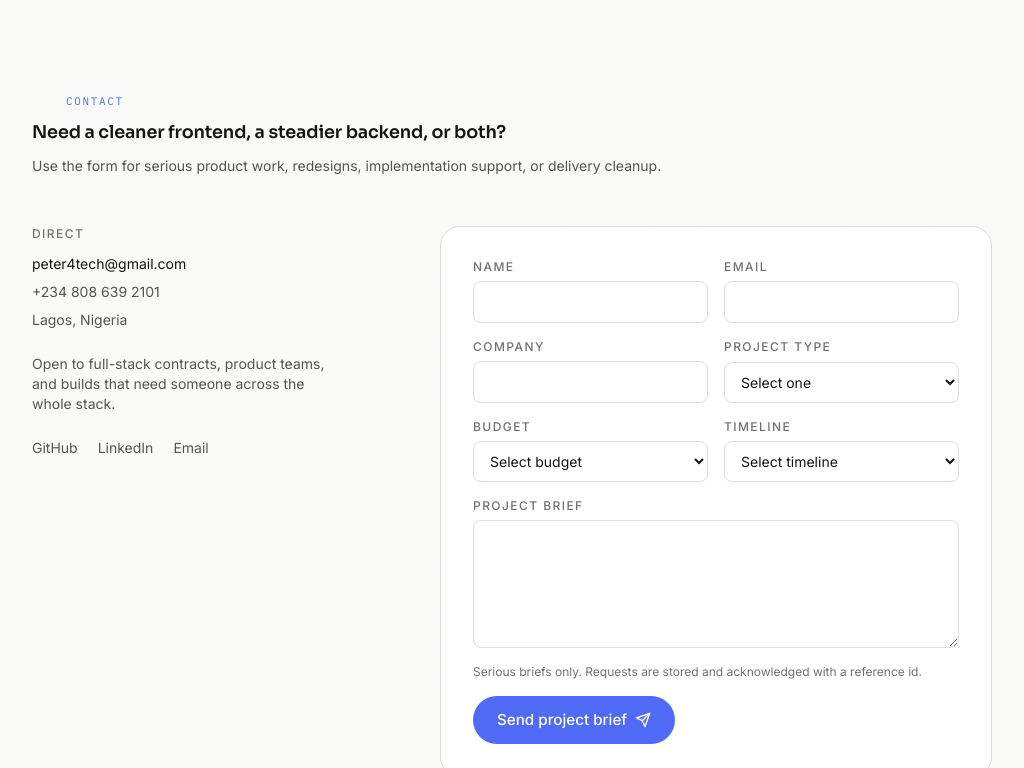
contact form › submits and shows the returned reference id
Type "Ada Lovelace" into the field labelled "Name" at x=590, y=302, box [473,281,708,323]
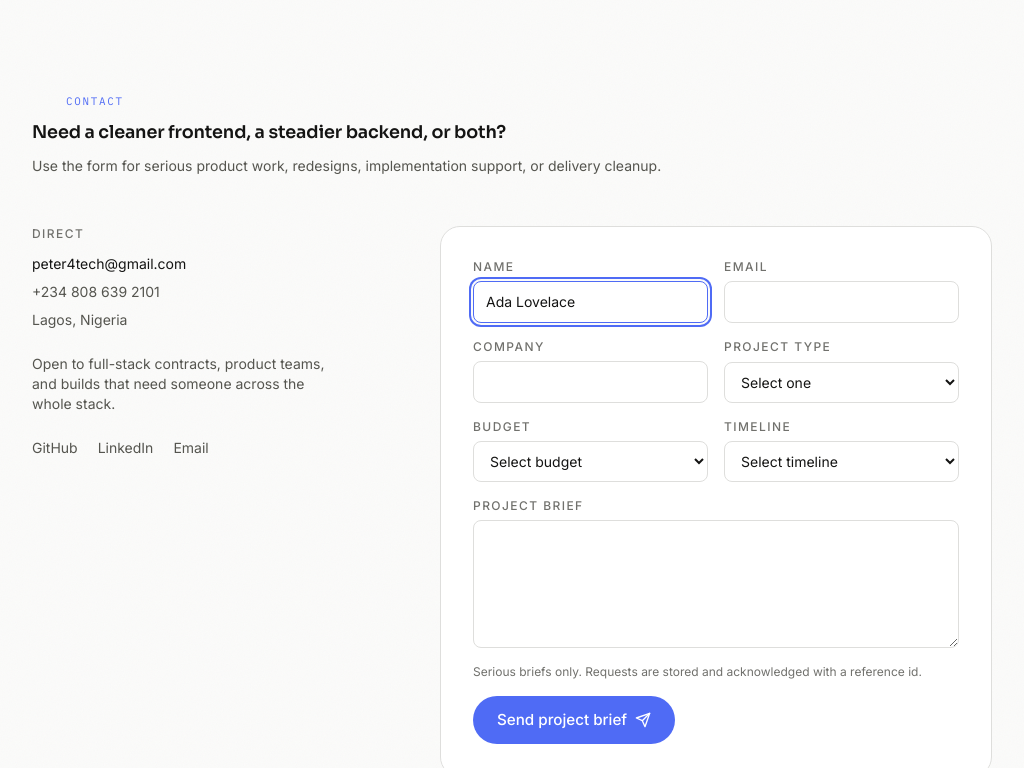
Type "ada@example.com" into the field labelled "Email" at x=842, y=302, box [724,281,959,323]
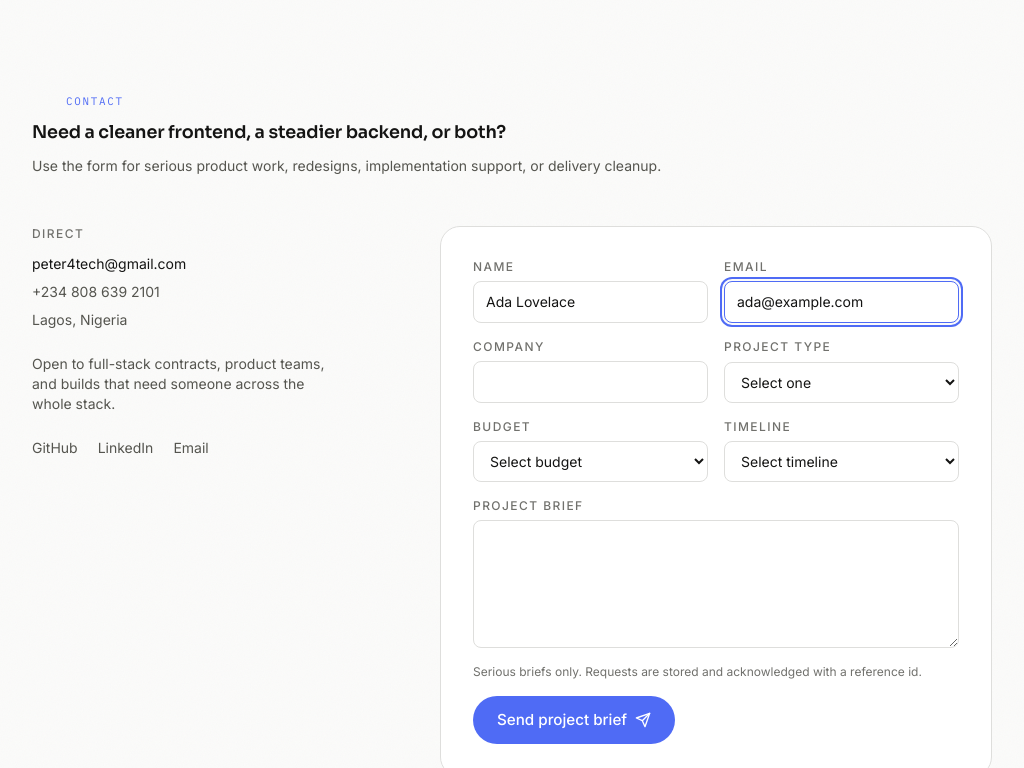
Select "Full-stack delivery" in the dropdown labelled "Project type" at x=842, y=382, box [724,362,959,403]
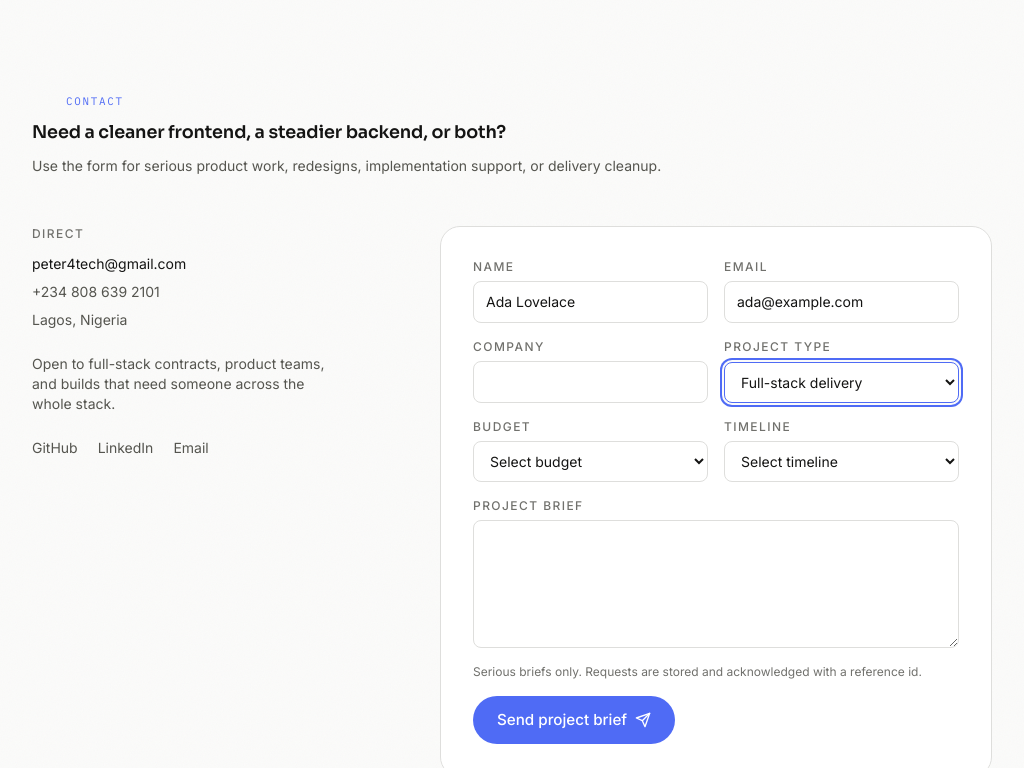
Type "We need a full rebuild of our product interface." into the text box labelled "Project brief" at x=716, y=584, box [473,520,959,648]
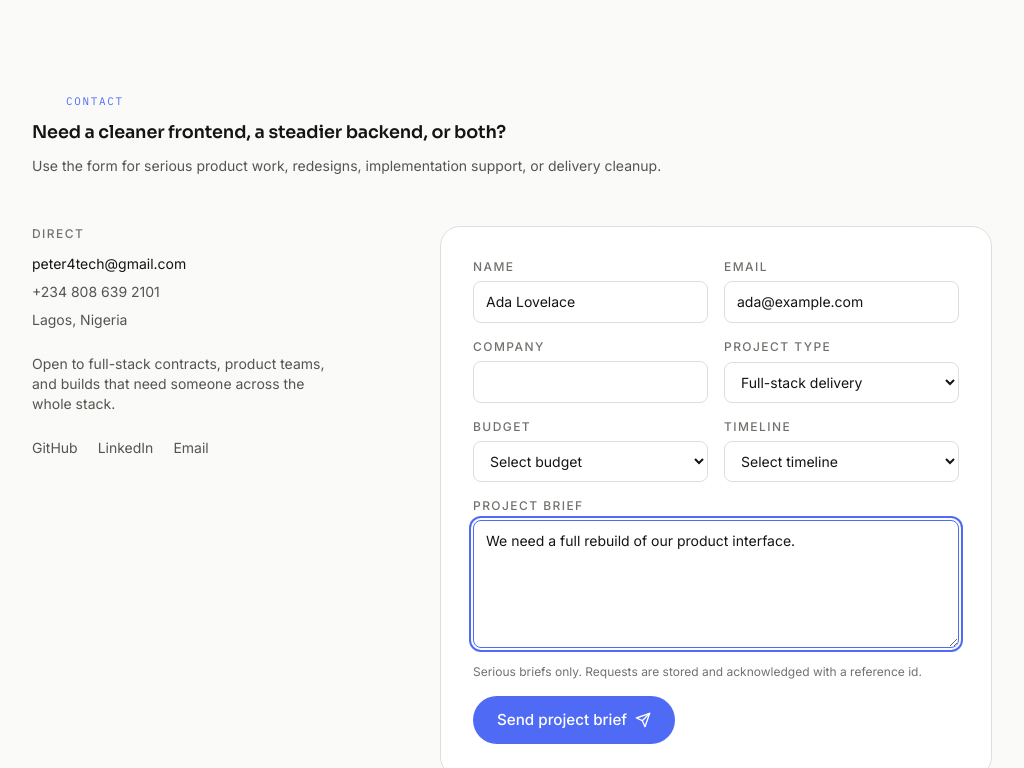
Click the button "Send project brief" at x=574, y=720, box [473,696,675,744]
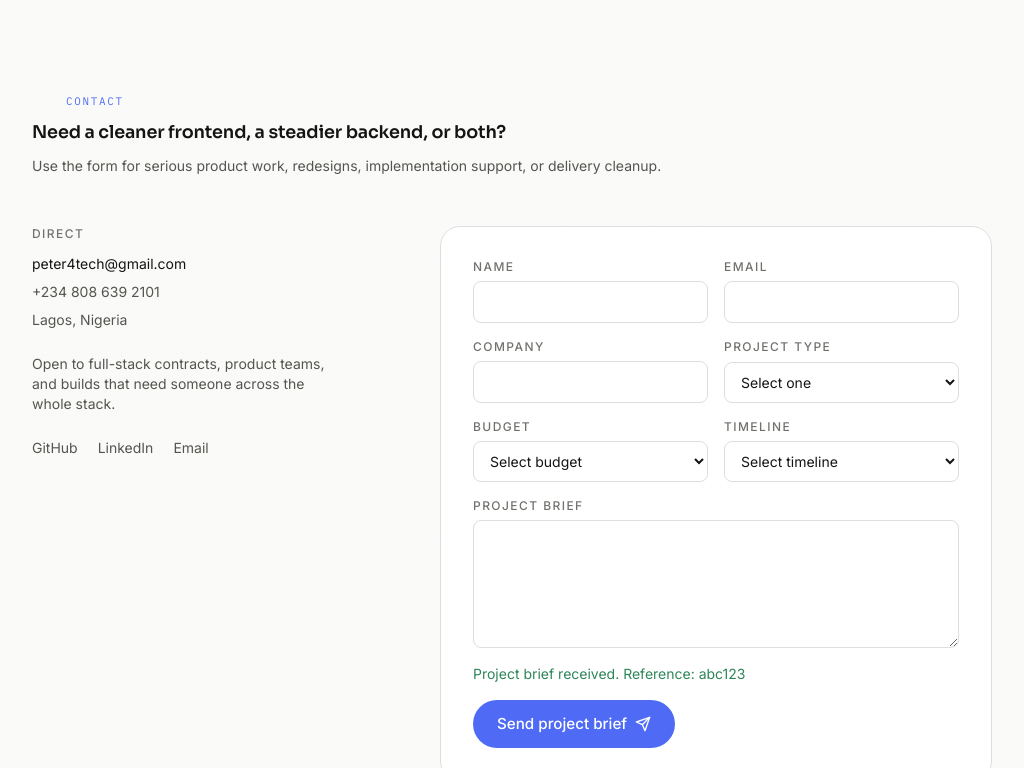
Expected: the message shows "abc123", [473,665,746,682]
